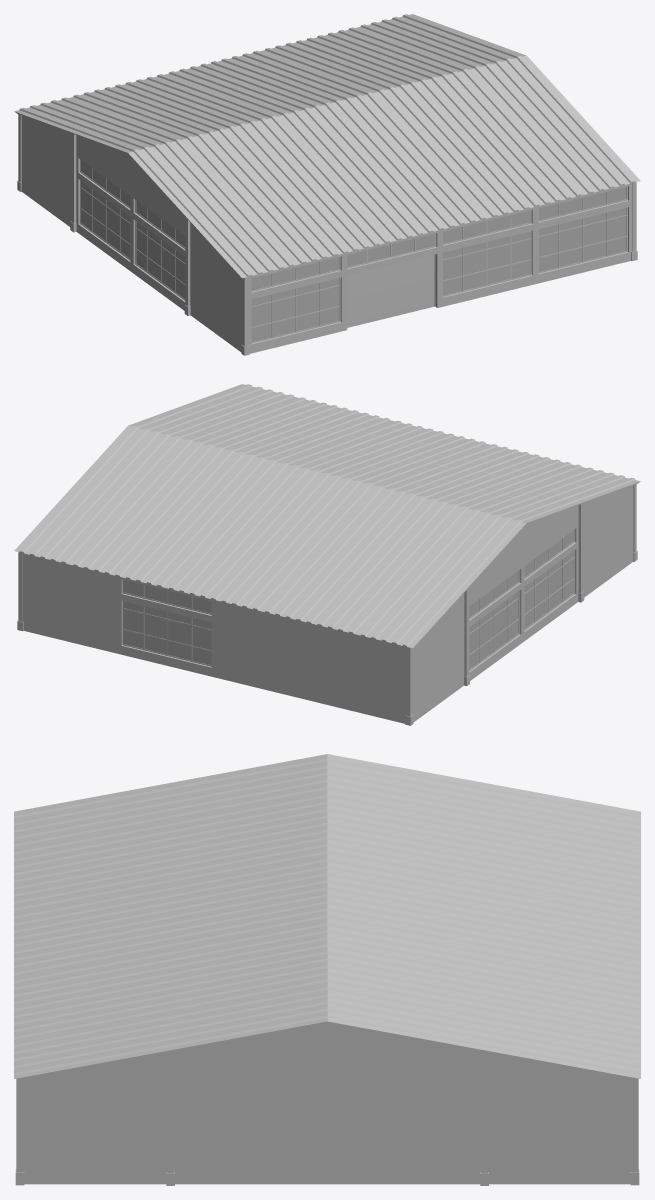
File: fabbrica.fbx
3 renders of one model, top to bottom at view 1: azimuth 30°, elevation 25°; view 2: azimuth 150°, elevation 25°; view 3: azimuth 270°, elevation 25°, orthographic. The views are drawn at different scales.
Parts seen in each view (by area): view 1: roof_leftEnd, glass002, glass015, glass, Gates_closed001, wall003, wall, glass020, glass021, wall_window, wall_window001, wall_window012 (+13 smaller); view 2: roof_leftEnd, wall005, wall011, wall004, glass011, wall, wall003, glass020, glass021, wall_window008, wall_window018, wall_roof_pt2 (+7 smaller); view 3: roof_leftEnd, wall015, wall_roof_pt006, wall_roof_pt008, side_column001, wall_roof_pt005, wall_roof_pt007, closing_column002, closing_column003.
Part boxes in pixels (box(x1,y1,x2,y2)): roof_leftEnd: box(14, 14, 640, 278); glass002: box(443, 210, 530, 295); glass015: box(539, 187, 626, 271); glass: box(251, 257, 339, 341); Gates_closed001: box(347, 254, 435, 327); wall003: box(21, 115, 76, 226); wall: box(190, 237, 241, 351); glass020: box(81, 160, 130, 258); glass021: box(136, 200, 185, 298); wall_window: box(249, 252, 344, 353); wall_window001: box(440, 205, 535, 307); wall_window012: box(536, 182, 631, 283); roof_leftEnd: box(14, 384, 640, 648); wall005: box(214, 599, 310, 700); wall011: box(23, 552, 118, 653); wall004: box(310, 622, 405, 723); glass011: box(123, 580, 211, 665); wall: box(578, 485, 633, 597); wall003: box(413, 607, 464, 721); glass020: box(469, 570, 518, 669); glass021: box(524, 530, 573, 629); wall_window008: box(119, 575, 214, 677); wall_window018: box(523, 523, 578, 641); wall_roof_pt2: box(523, 505, 578, 563); roof_leftEnd: box(14, 754, 640, 1078); wall015: box(23, 1076, 631, 1184); wall_roof_pt006: box(327, 1022, 479, 1076); wall_roof_pt008: box(175, 1022, 327, 1076); side_column001: box(166, 1051, 488, 1185); wall_roof_pt005: box(479, 1050, 615, 1076); wall_roof_pt007: box(39, 1050, 175, 1076); closing_column002: box(15, 1079, 24, 1185); closing_column003: box(630, 1079, 639, 1185).
Size of the model in its own units: 3184 by 930 by 3155.
